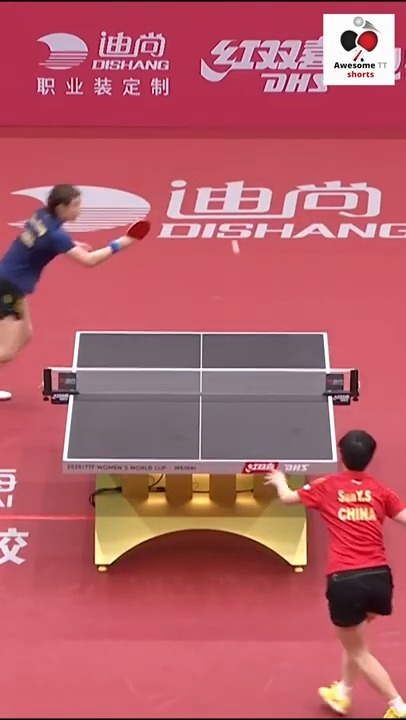Ball: (229, 241, 244, 251)
